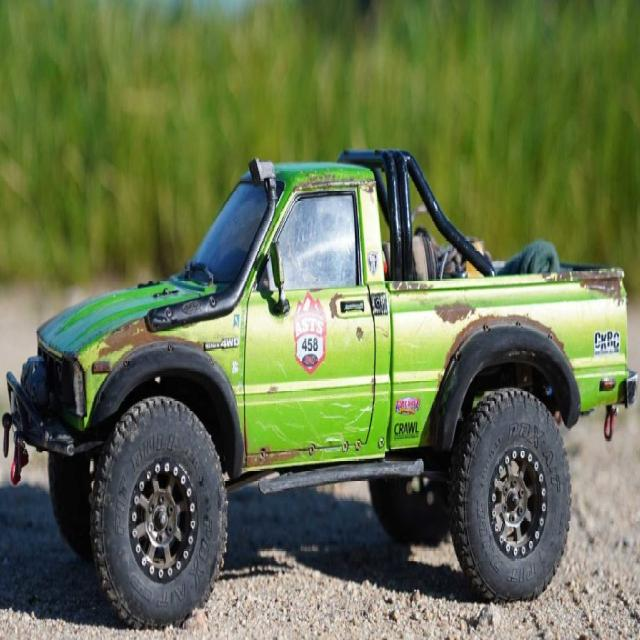light_vehicle: (14, 122, 630, 626)
